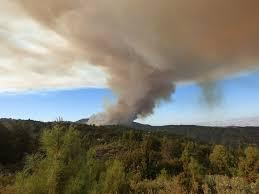yanwu: (1, 1, 259, 95), (84, 65, 184, 125)
